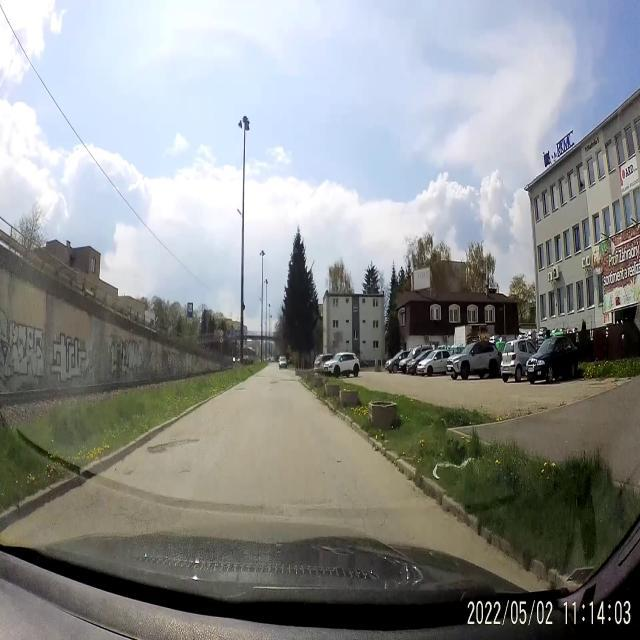Pothole: (147, 434, 200, 458), (235, 384, 248, 396), (268, 378, 280, 388), (178, 467, 192, 475)
